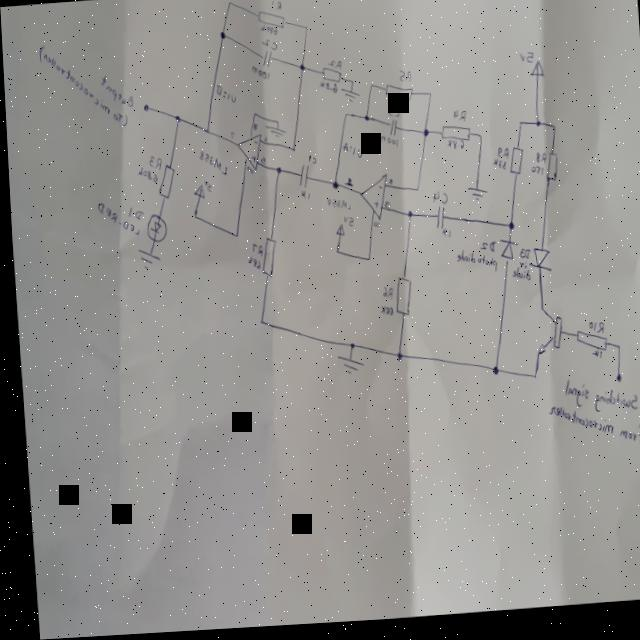capacitor: (431, 209, 442, 233), (259, 52, 272, 71), (296, 166, 306, 189), (386, 120, 395, 140)
diode: (142, 213, 164, 242), (524, 252, 547, 279), (494, 242, 515, 268)
ground: (133, 248, 157, 270), (332, 359, 358, 378), (262, 125, 284, 143), (464, 190, 485, 207), (338, 90, 359, 106)
junction: (402, 212, 411, 224), (504, 225, 512, 235), (419, 130, 426, 141), (487, 370, 494, 380), (344, 344, 351, 352), (532, 124, 538, 133), (391, 356, 397, 364), (361, 117, 367, 125), (273, 168, 279, 176), (330, 184, 336, 192), (254, 319, 259, 327), (527, 377, 532, 385), (475, 137, 480, 144), (411, 189, 416, 196), (231, 233, 236, 240), (219, 33, 223, 41), (303, 27, 307, 35), (611, 350, 616, 356), (549, 129, 554, 135), (173, 116, 177, 123), (332, 250, 336, 257), (515, 125, 519, 132), (368, 86, 372, 93), (298, 67, 302, 73), (190, 215, 194, 221), (425, 95, 429, 101), (203, 130, 207, 136), (289, 148, 293, 154), (250, 113, 254, 119), (364, 258, 367, 265), (227, 2, 231, 7), (348, 82, 352, 87), (273, 122, 277, 126), (342, 115, 345, 119)
resistor: (389, 279, 409, 321), (153, 163, 175, 201), (571, 333, 603, 359), (255, 10, 284, 33), (257, 237, 273, 278), (437, 128, 468, 149), (382, 85, 411, 106), (542, 156, 557, 186), (508, 152, 521, 181), (319, 69, 340, 86)
source: (526, 64, 542, 85), (190, 184, 202, 202), (331, 226, 342, 241)
terminal: (141, 103, 147, 113), (610, 379, 616, 389)
text: (34, 36, 128, 135), (542, 403, 640, 457), (557, 378, 634, 421), (94, 199, 138, 239), (97, 71, 132, 111), (452, 251, 494, 279), (195, 149, 225, 179), (338, 143, 361, 164), (323, 199, 348, 216), (212, 85, 233, 105), (249, 65, 268, 84), (134, 168, 155, 185), (315, 81, 336, 98), (506, 271, 527, 287), (377, 136, 396, 153), (428, 193, 446, 210), (474, 243, 493, 258), (124, 205, 140, 222), (258, 25, 277, 38), (260, 39, 276, 54), (583, 327, 600, 341), (444, 142, 462, 155), (449, 112, 464, 127), (395, 72, 410, 87), (146, 154, 159, 171), (389, 102, 406, 115), (517, 55, 532, 69), (377, 288, 390, 303), (375, 307, 389, 320), (490, 162, 504, 175), (526, 169, 541, 181), (246, 244, 259, 257), (243, 258, 256, 271), (326, 62, 341, 73), (515, 252, 527, 265), (531, 157, 544, 169), (339, 217, 350, 229), (437, 231, 448, 243), (586, 354, 597, 365), (494, 151, 506, 161), (270, 1, 280, 13), (304, 156, 314, 168), (385, 112, 397, 122), (514, 264, 524, 275), (201, 181, 209, 193), (298, 192, 306, 203), (369, 222, 377, 232), (227, 130, 234, 141), (243, 167, 251, 176), (342, 181, 350, 189), (380, 203, 386, 213), (384, 180, 390, 190), (257, 158, 264, 166), (248, 156, 254, 165), (370, 203, 376, 210), (251, 124, 256, 132), (251, 140, 255, 147), (260, 138, 264, 144), (376, 187, 380, 193)
transistor: (529, 310, 560, 363)
